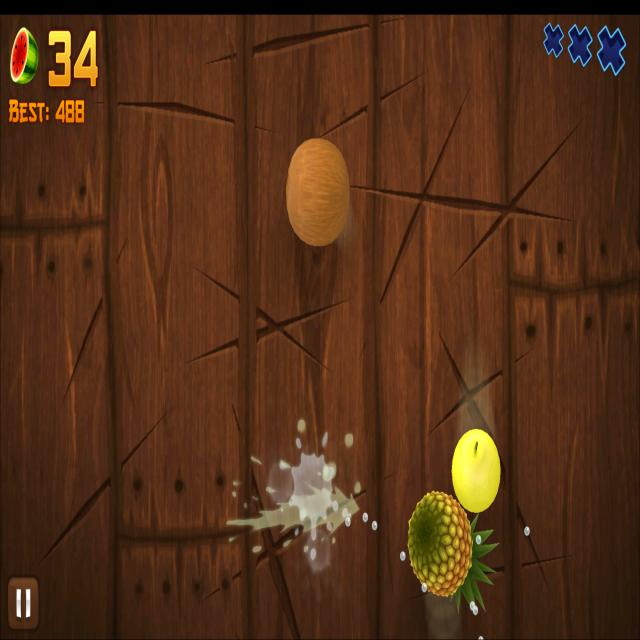fruit: (407, 488, 474, 599), (286, 135, 350, 249), (451, 428, 502, 514)
